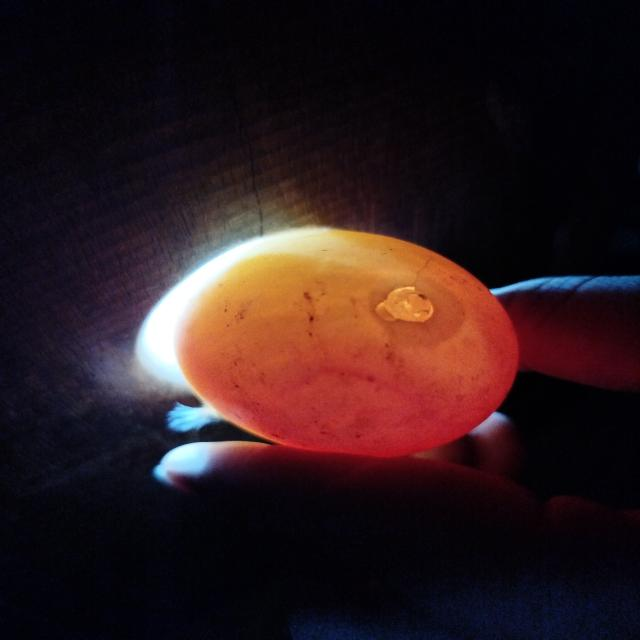Rachadura: (376, 286, 435, 322)
